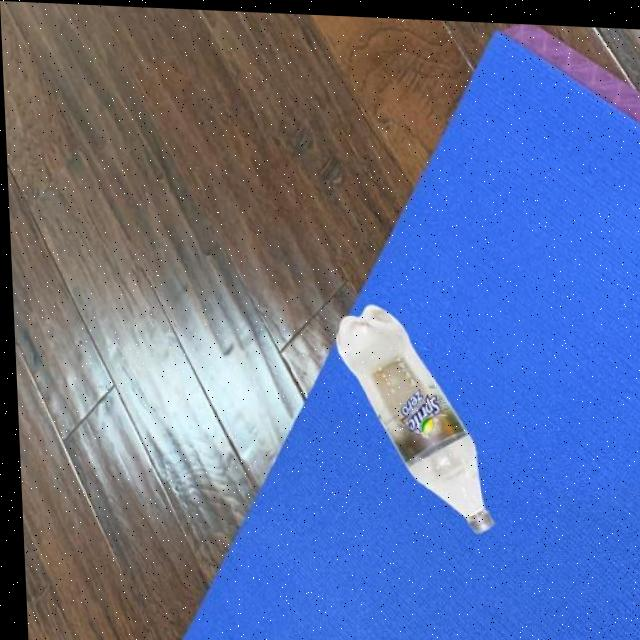bottle: (329, 298, 490, 532)
